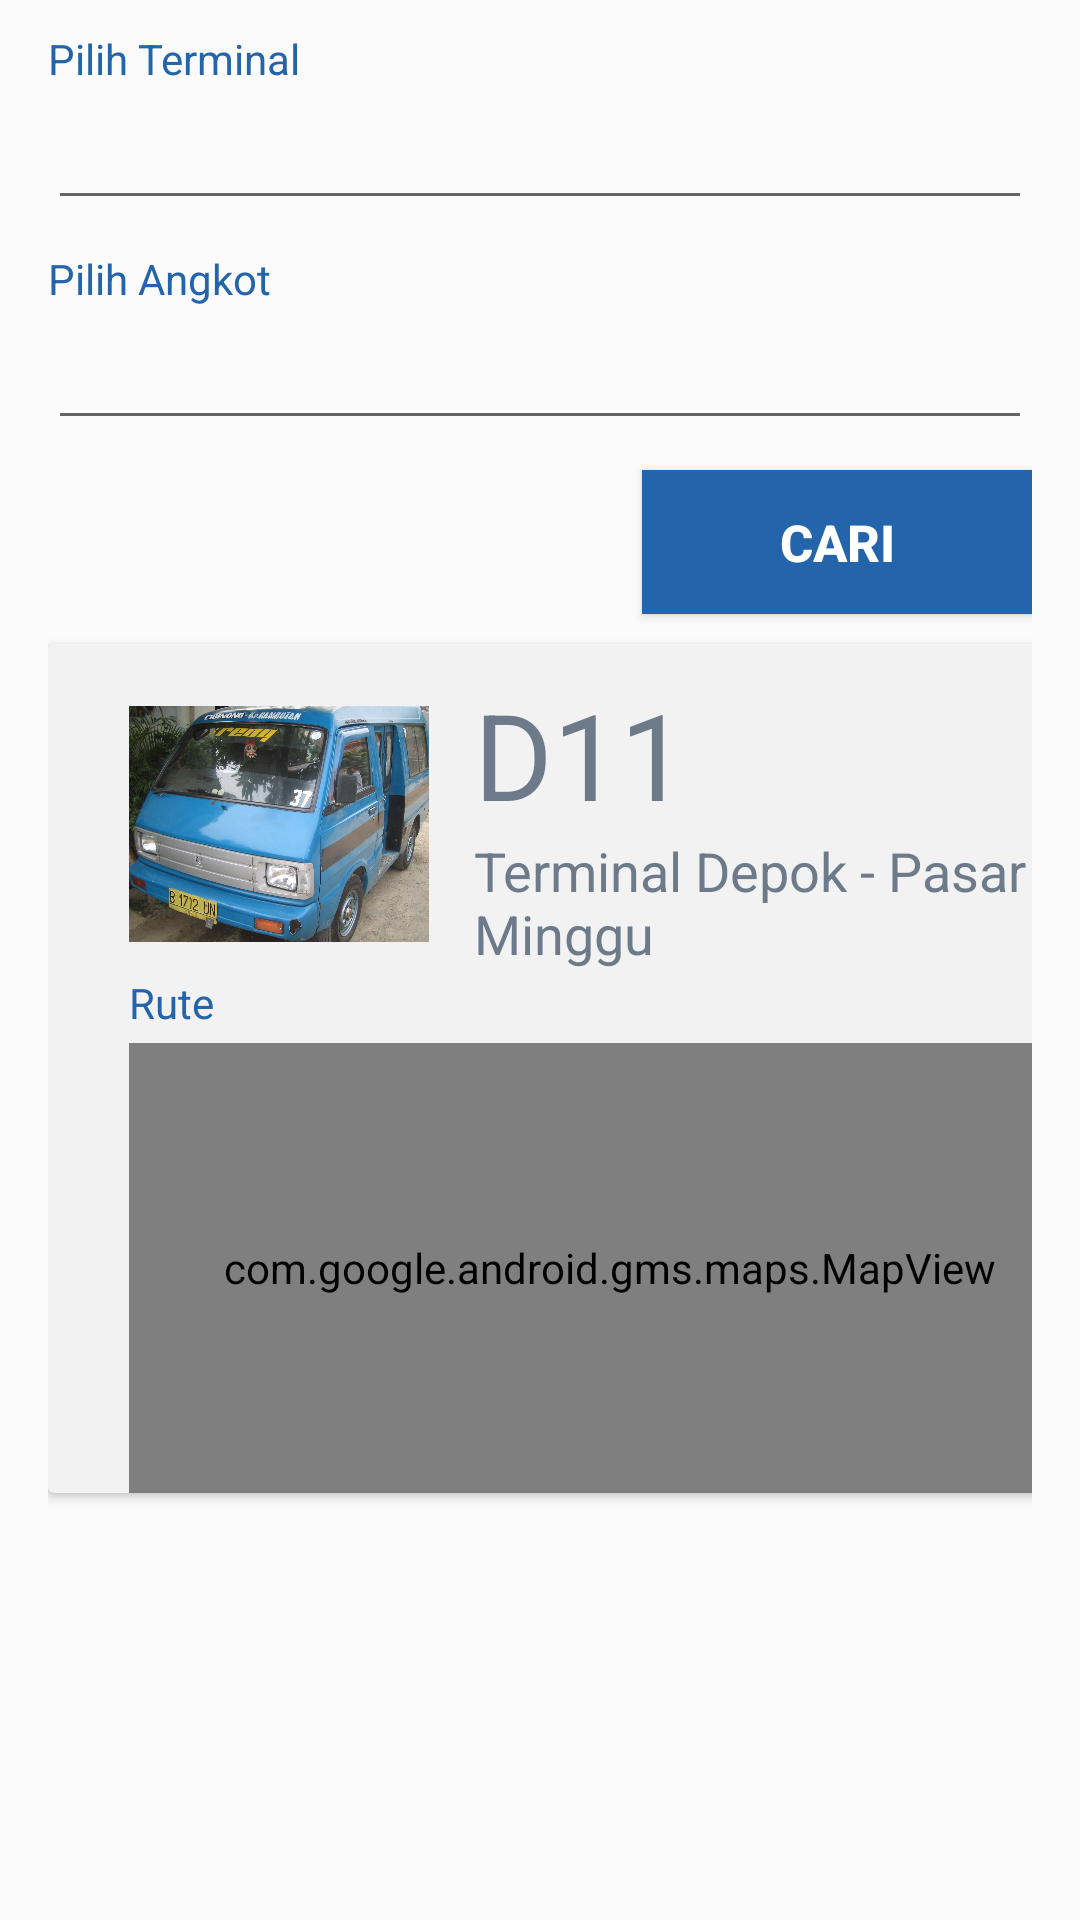

Icons on this 1080x1920 Android screen, each with the point to tap as (x,y):
angkot: (279,824)
